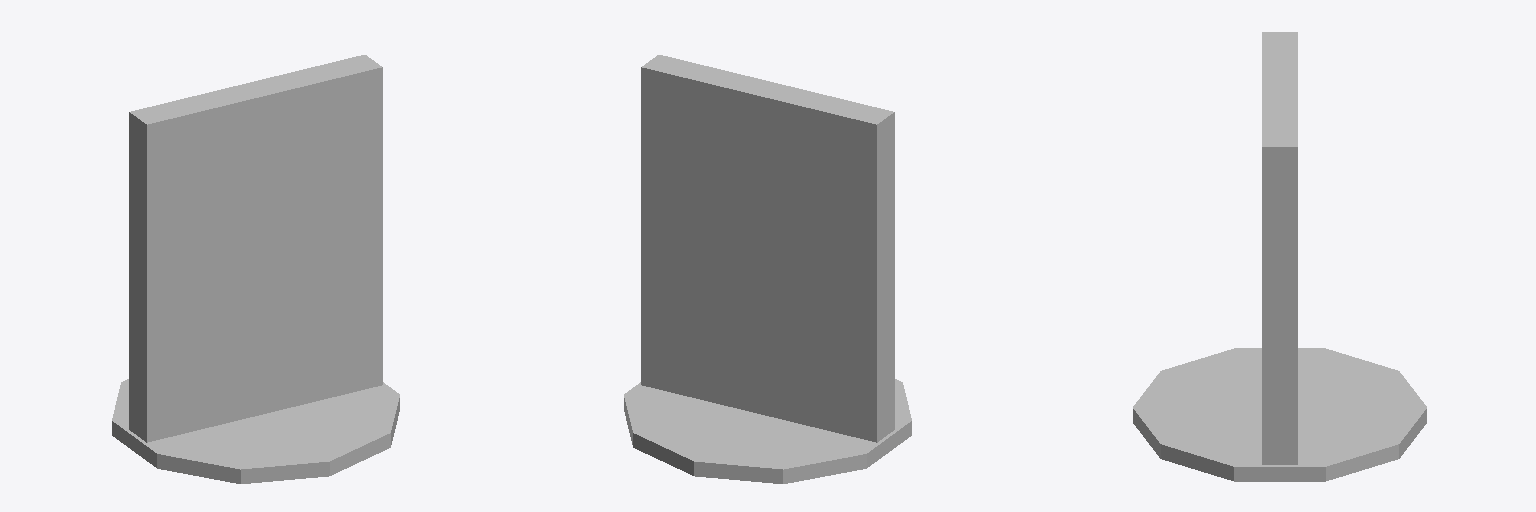
The model's file is 133_col.obj.
3 views of the same model, side by side, from view 1: azimuth 30°, elevation 25°; view 2: azimuth 150°, elevation 25°; view 3: azimuth 270°, elevation 25° (orthographic).
Visible parts, largest first — view 1: Cube, Cylinder_Cylinder.007; view 2: Cube, Cylinder_Cylinder.007; view 3: Cylinder_Cylinder.007, Cube.
Part boxes in pixels (x1,y1,x2,y2): Cube: (129, 55, 382, 442); Cylinder_Cylinder.007: (112, 379, 399, 483); Cube: (641, 55, 894, 442); Cylinder_Cylinder.007: (624, 379, 911, 483); Cylinder_Cylinder.007: (1133, 348, 1426, 481); Cube: (1262, 32, 1297, 464).
Bounding box in the file's own units: 1.6 × 2.09 × 1.68.